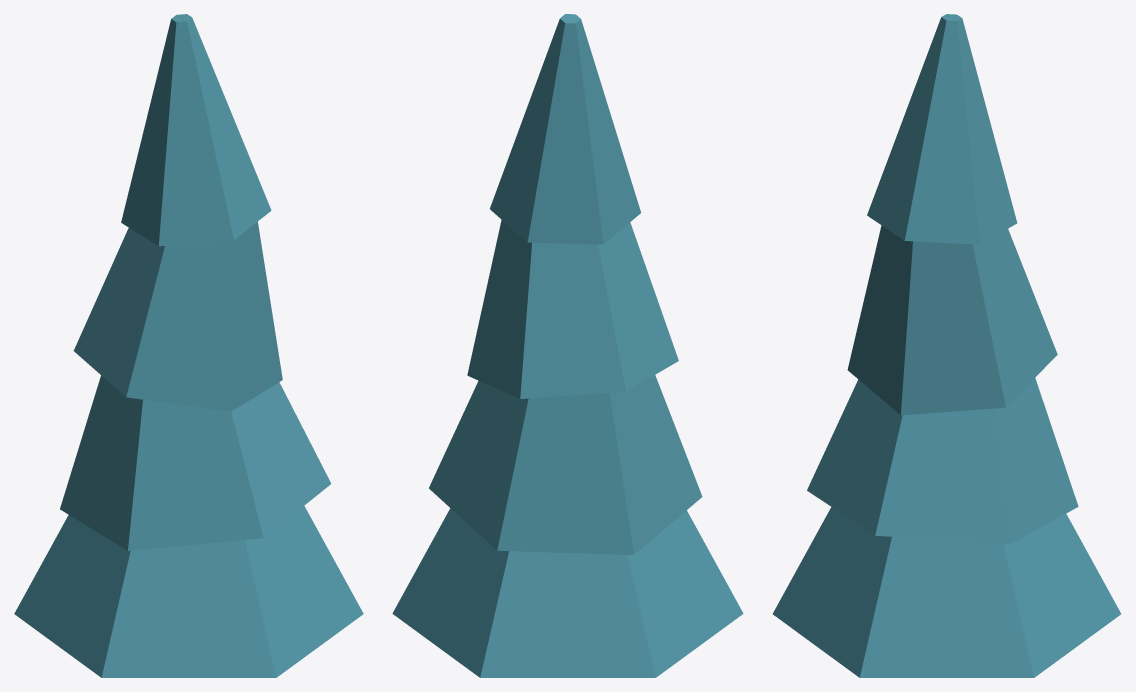
File: tree_pineSmall_round1.fbx
3 views of the same model, side by side, from view 1: azimuth 30°, elevation 25°; view 2: azimuth 150°, elevation 25°; view 3: azimuth 270°, elevation 25° (orthographic).
Visible parts, largest first — view 1: tree_pineSmall_round1; view 2: tree_pineSmall_round1; view 3: tree_pineSmall_round1.
Boxes of the visible parts, x1=… form: tree_pineSmall_round1: x1=14, y1=14, x2=363, y2=677; tree_pineSmall_round1: x1=392, y1=14, x2=743, y2=677; tree_pineSmall_round1: x1=773, y1=14, x2=1120, y2=677.
Size of the model in its own units: 4.8 by 10.43 by 5.55.
